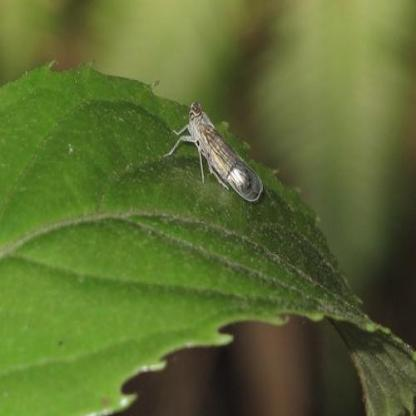Green-Leafhopper: (161, 97, 269, 205)
